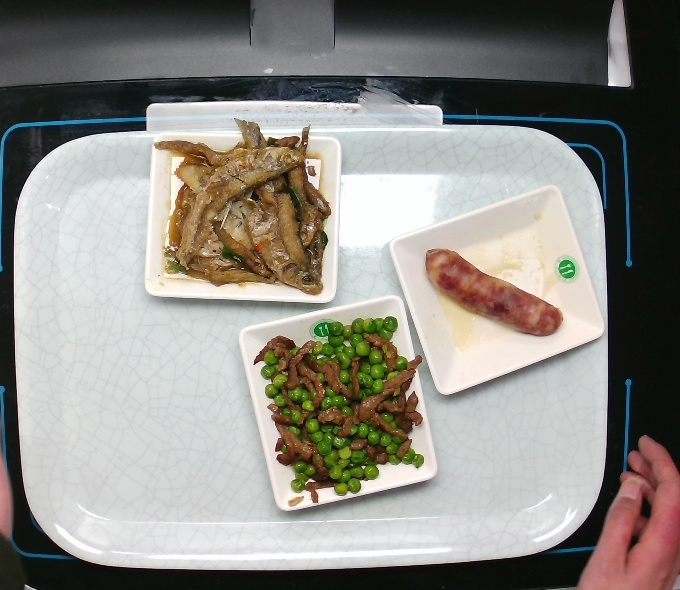wcq-CanDouNiuRou: (246, 313, 430, 498)
wcq-XiangChang: (419, 241, 571, 343)
wcq-XiaoJiYu: (152, 116, 339, 303)
